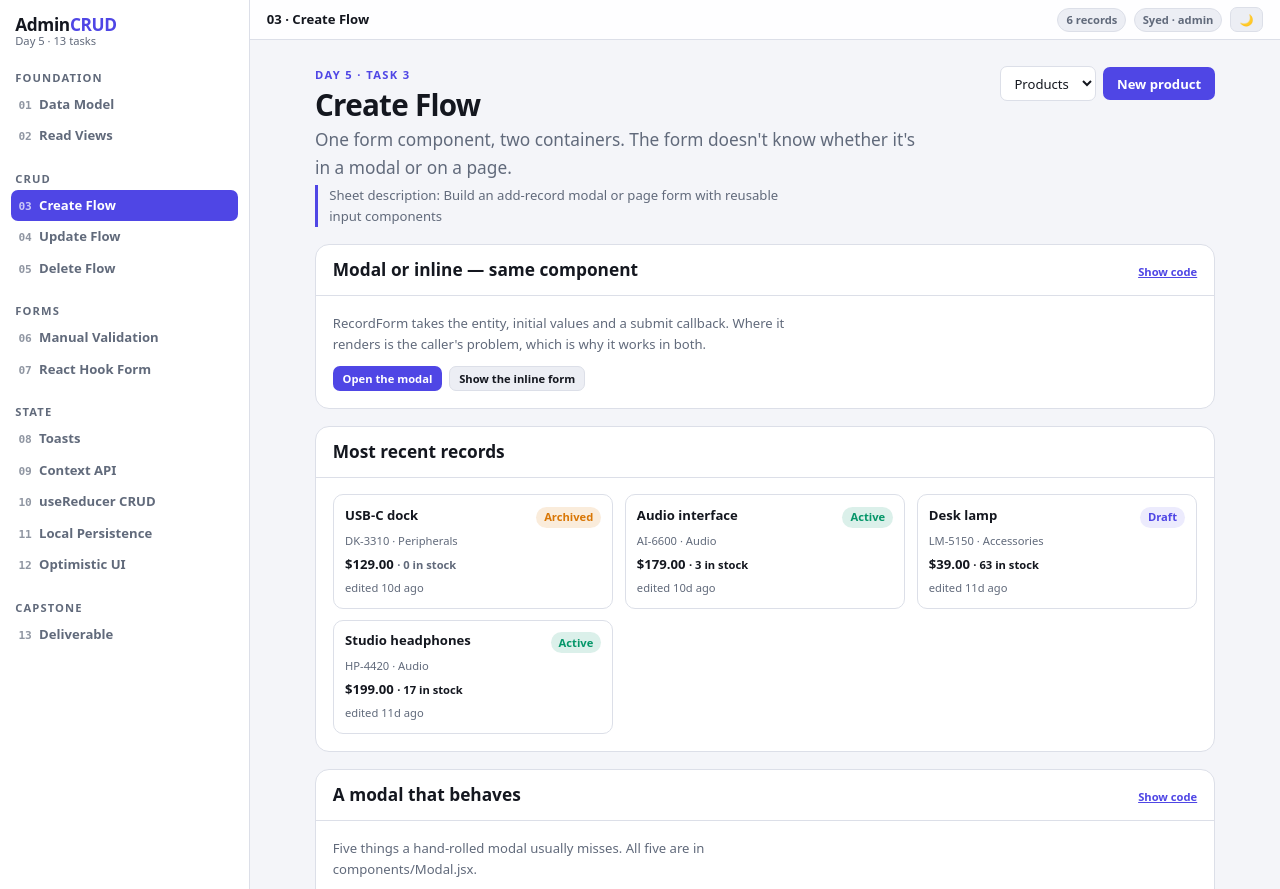
task 3 — create flow › creates a record when the form is valid
This screenshot has width=1280, height=889.
Expected: the text "Day 5 · Task 3" is shown, [315,67,410,82]
Click the button "Show the inline form" at [517, 378], box [449,366,585,391]
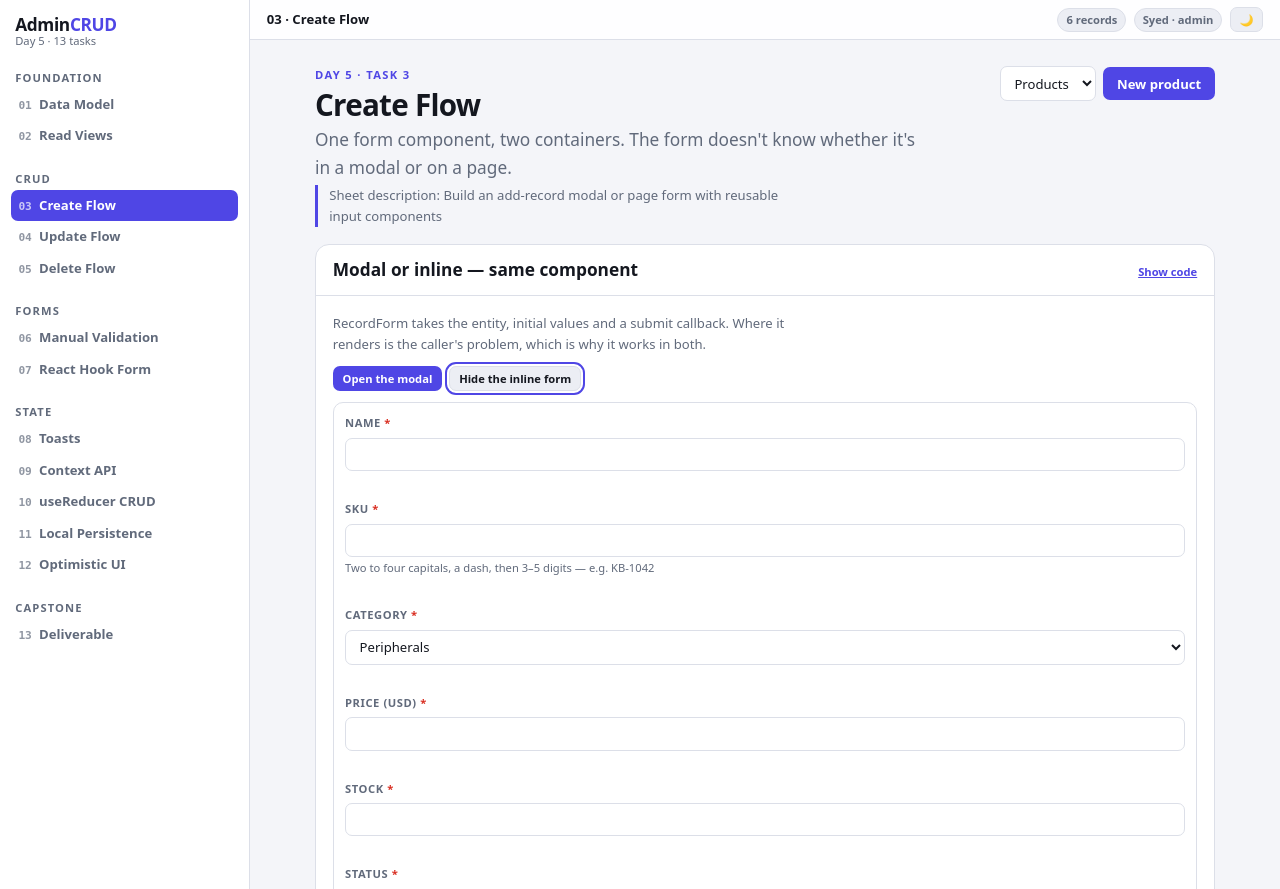
Type "Test Keyboard" into the field labelled "Name *" at [765, 455], box [345,438,1185,471]
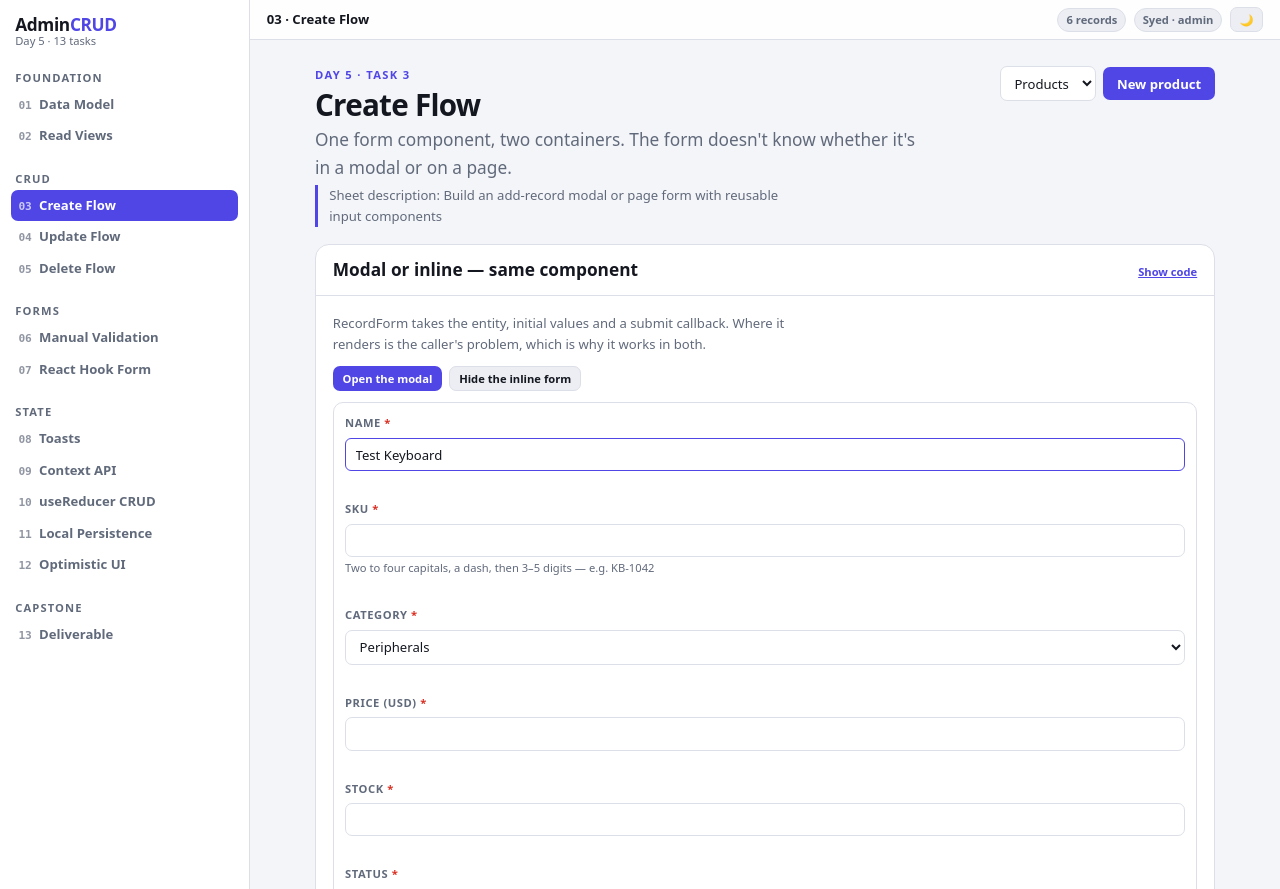
Type "TK-9001" into the field labelled "SKU *" at [765, 540], box [345,524,1185,557]
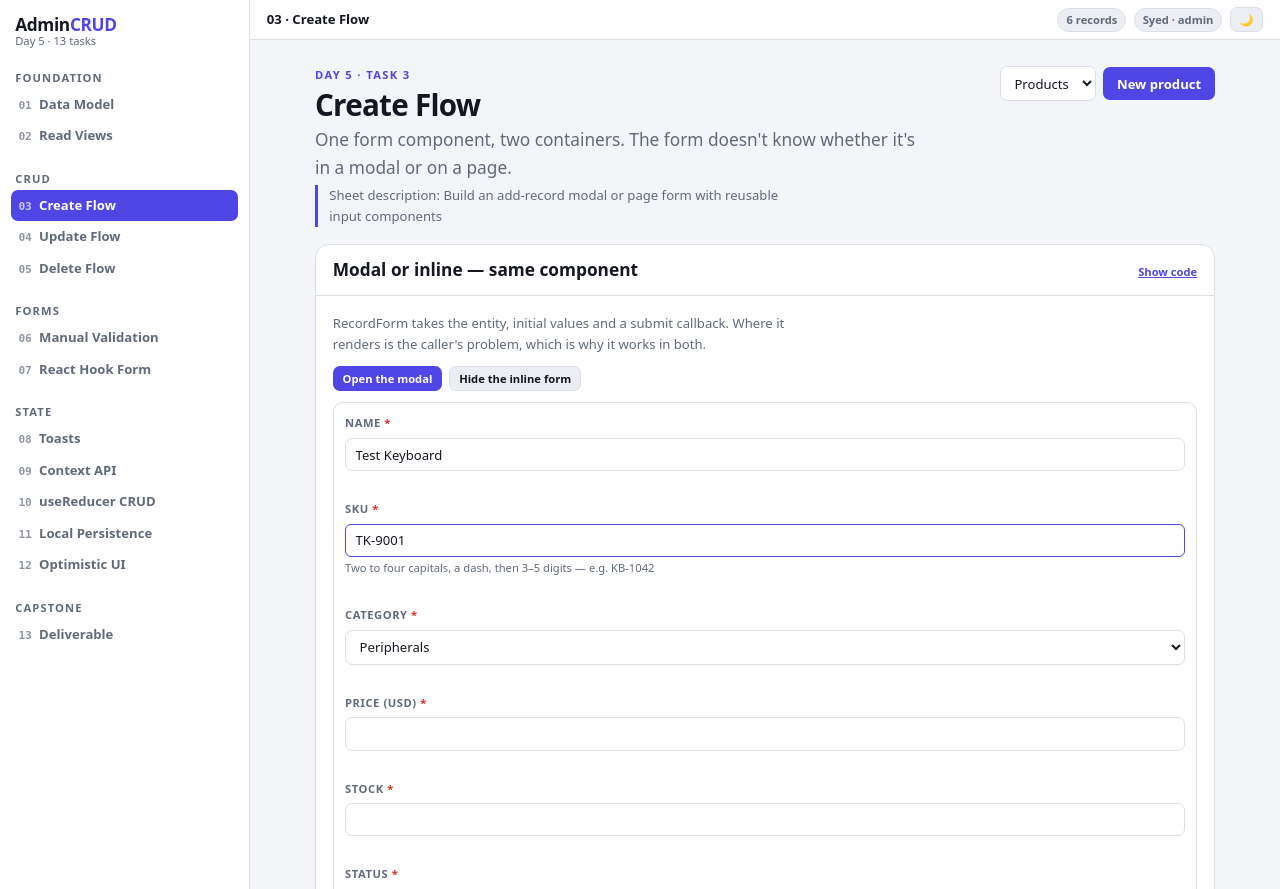
Type "55" into the number field labelled "Price (USD) *" at [765, 734], box [345,717,1185,751]
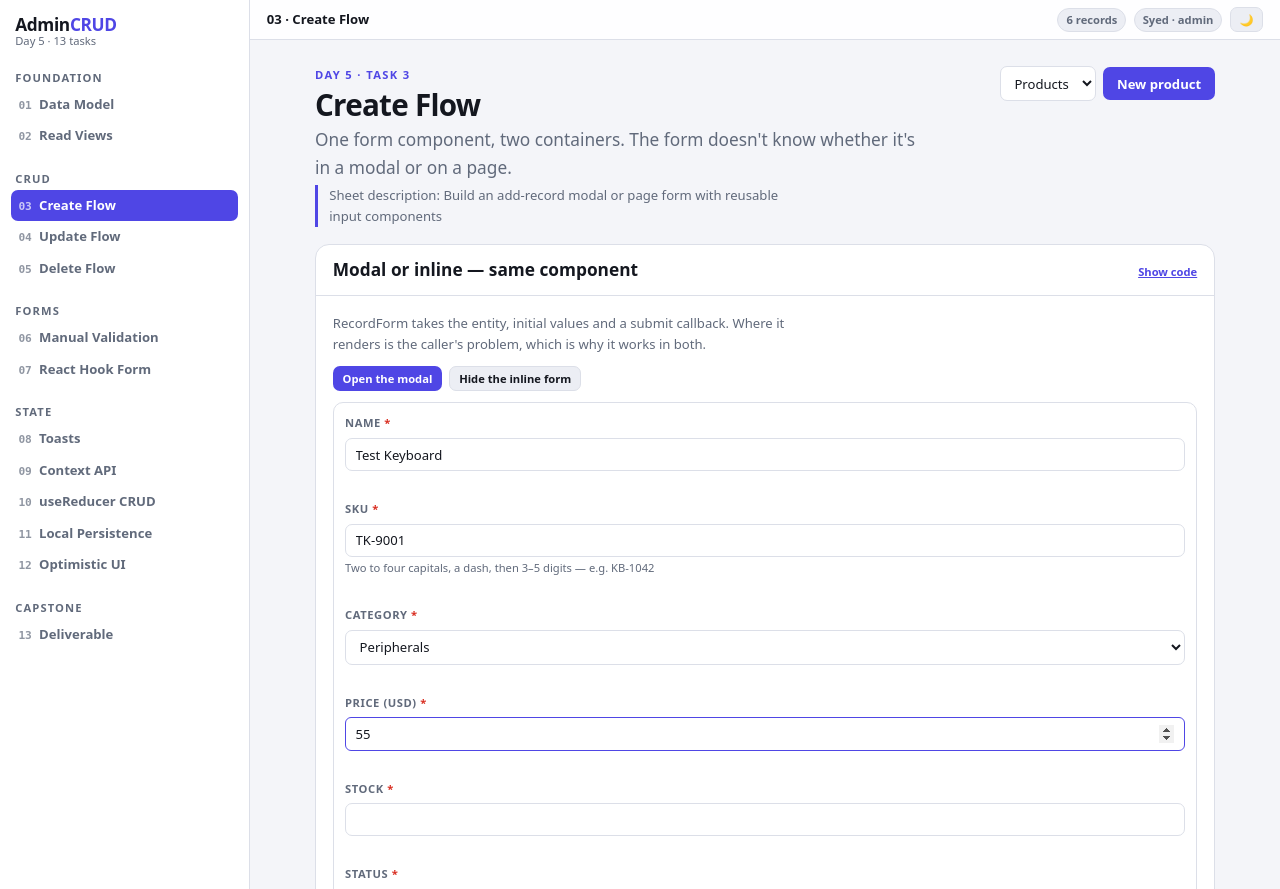
Type "10" into the number field labelled "Stock *" at [765, 820], box [345,803,1185,836]
(page scrolled)
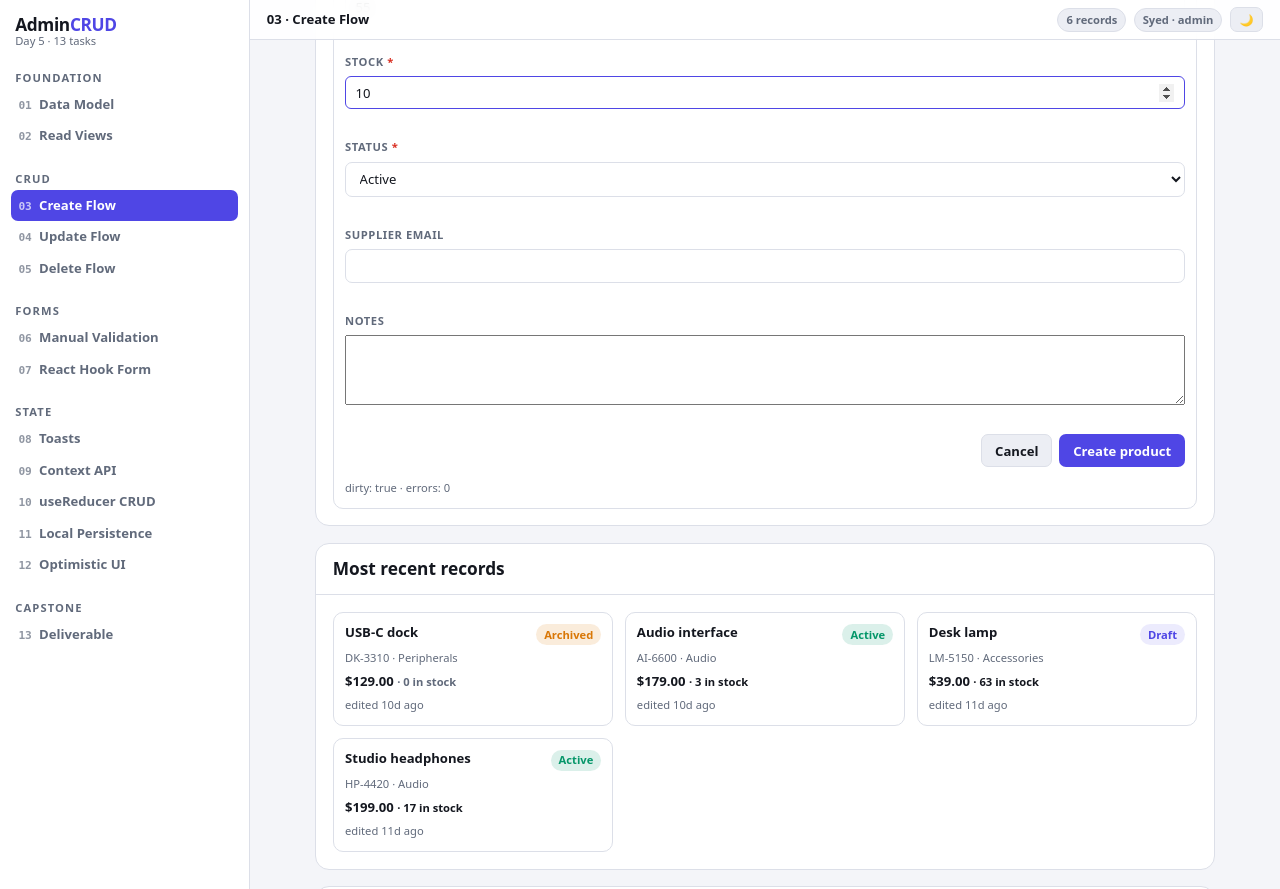
Click the button "Create product" at [1122, 451], box [1059,434,1185,467]
(page scrolled)
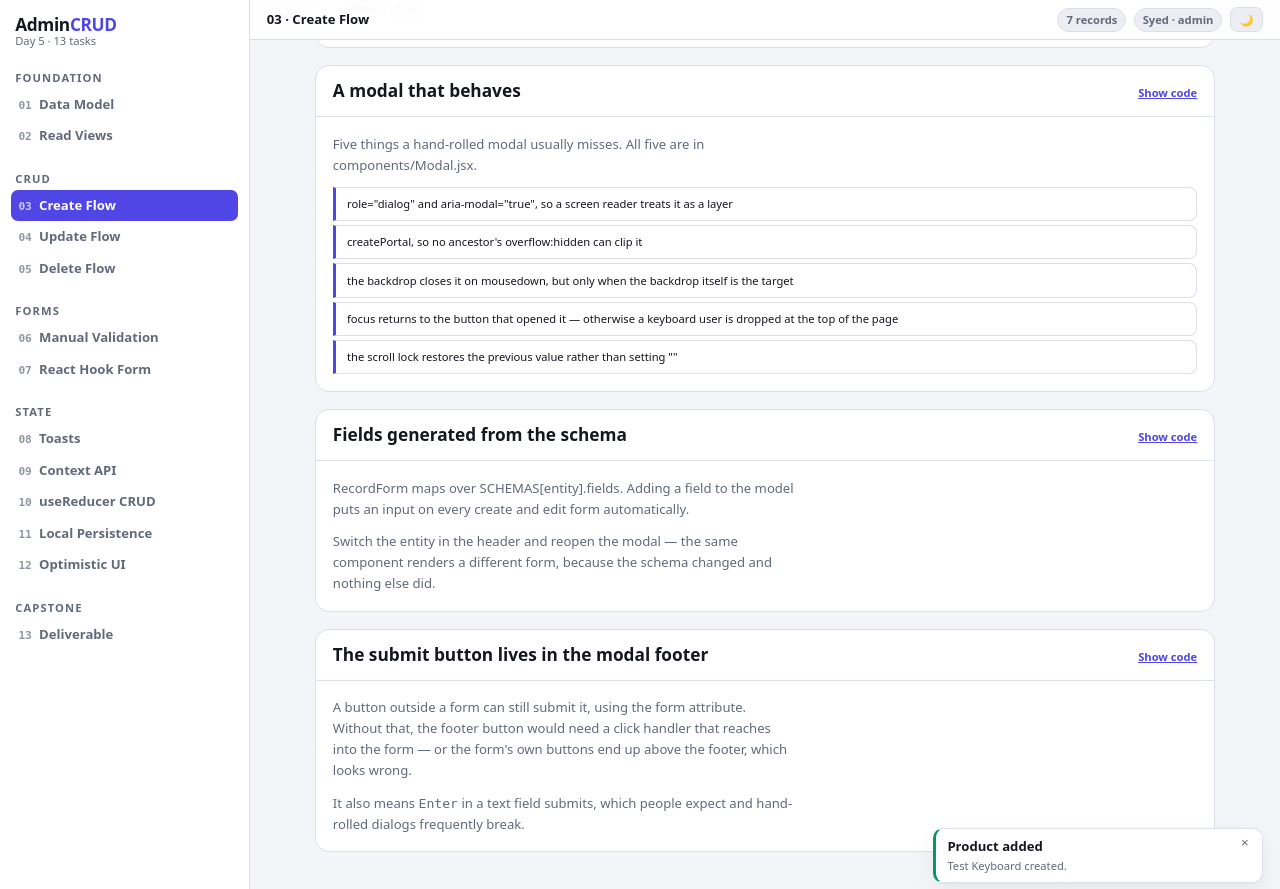
Result: the element named "Notifications" is shown at [933,828,1263,883]
